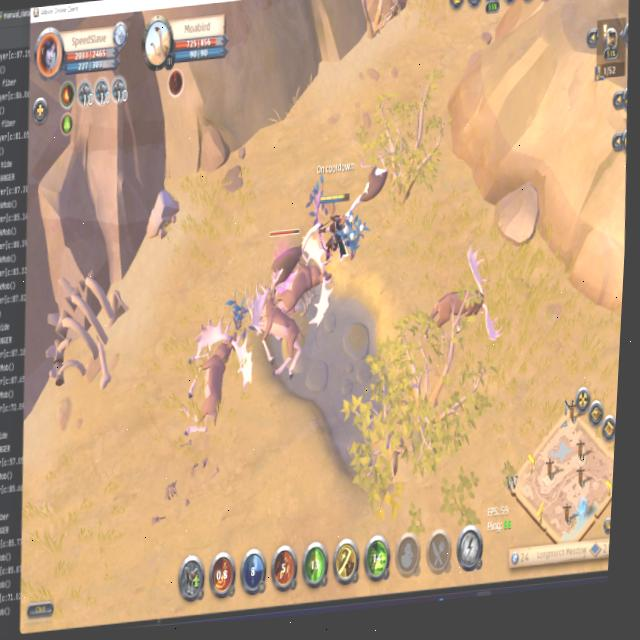hide: (334, 208, 367, 264)
mob: (176, 318, 254, 443), (245, 279, 310, 384), (272, 235, 338, 328), (342, 146, 392, 216)
ore: (421, 237, 506, 367), (260, 215, 322, 296)
red: (316, 189, 352, 264)
